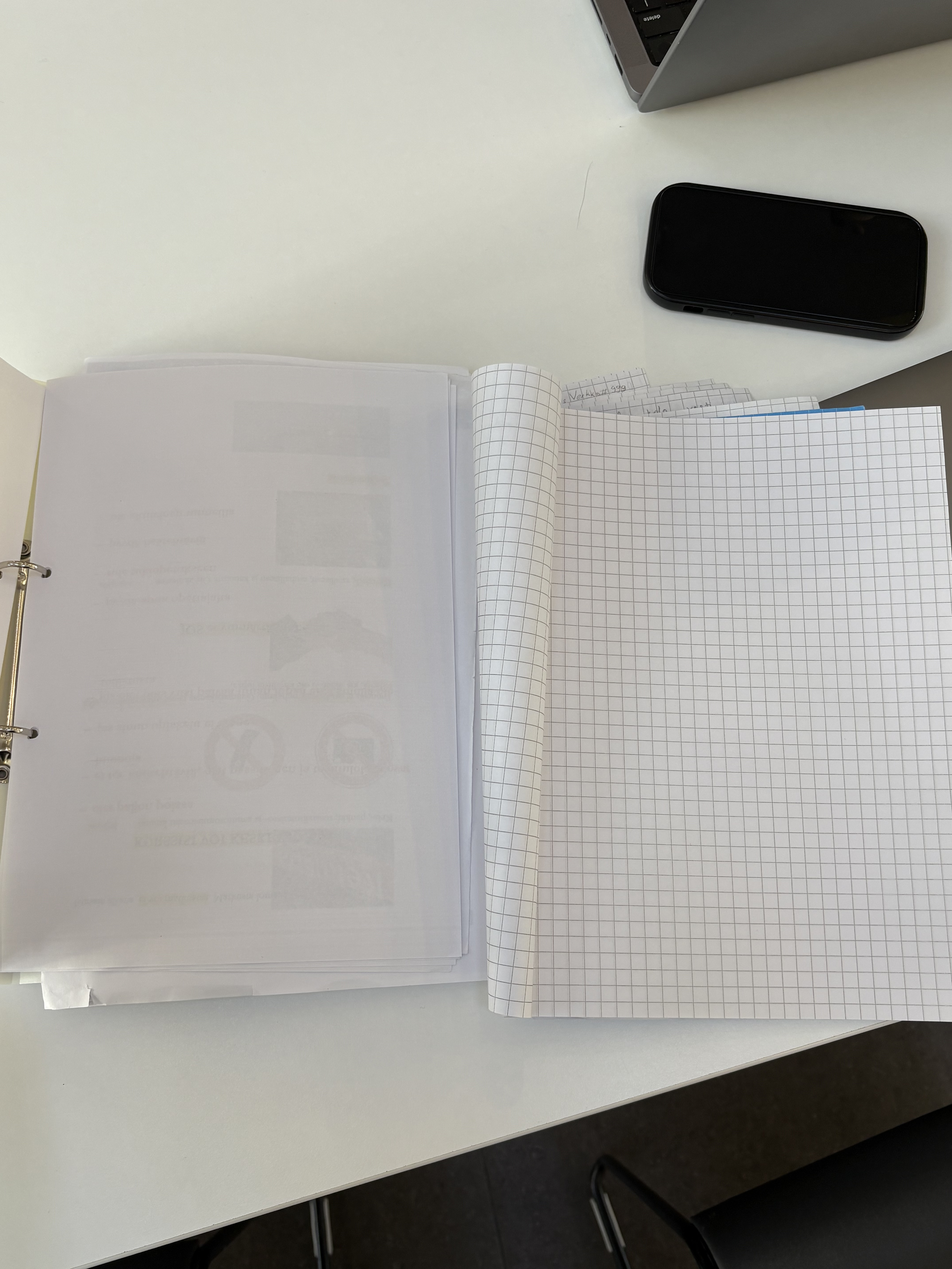paper: (30, 369, 950, 1024)
